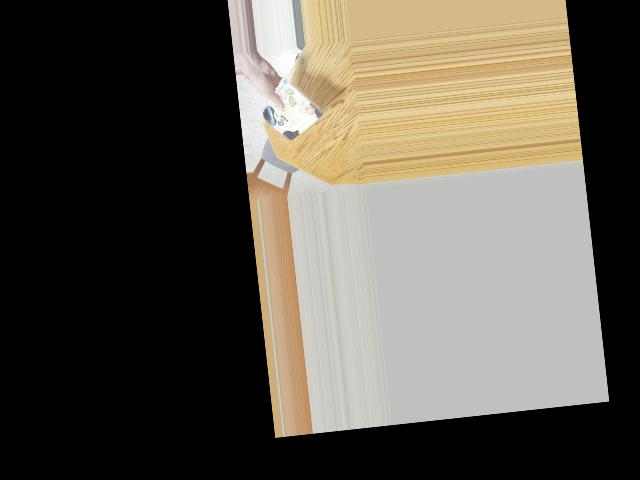cheese: (267, 80, 316, 140)
